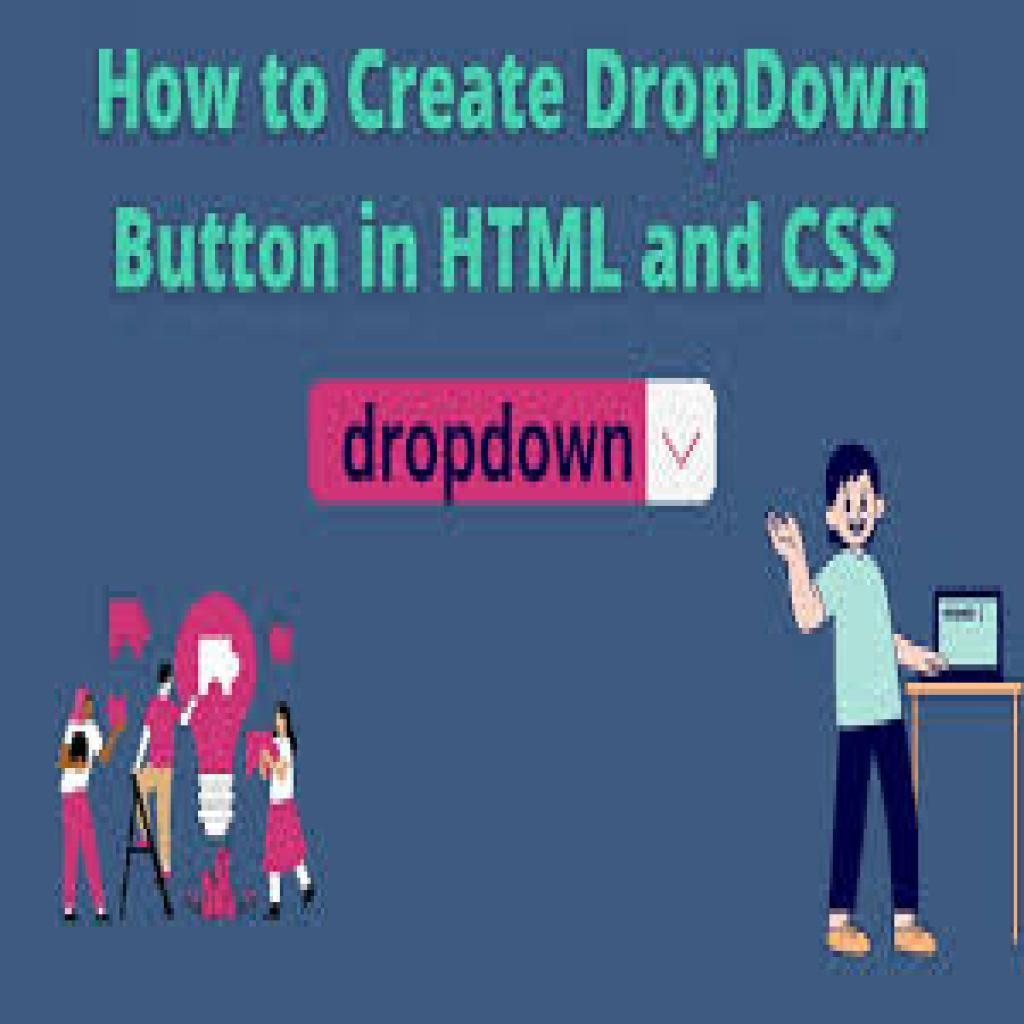dropdown: (314, 379, 718, 504)
